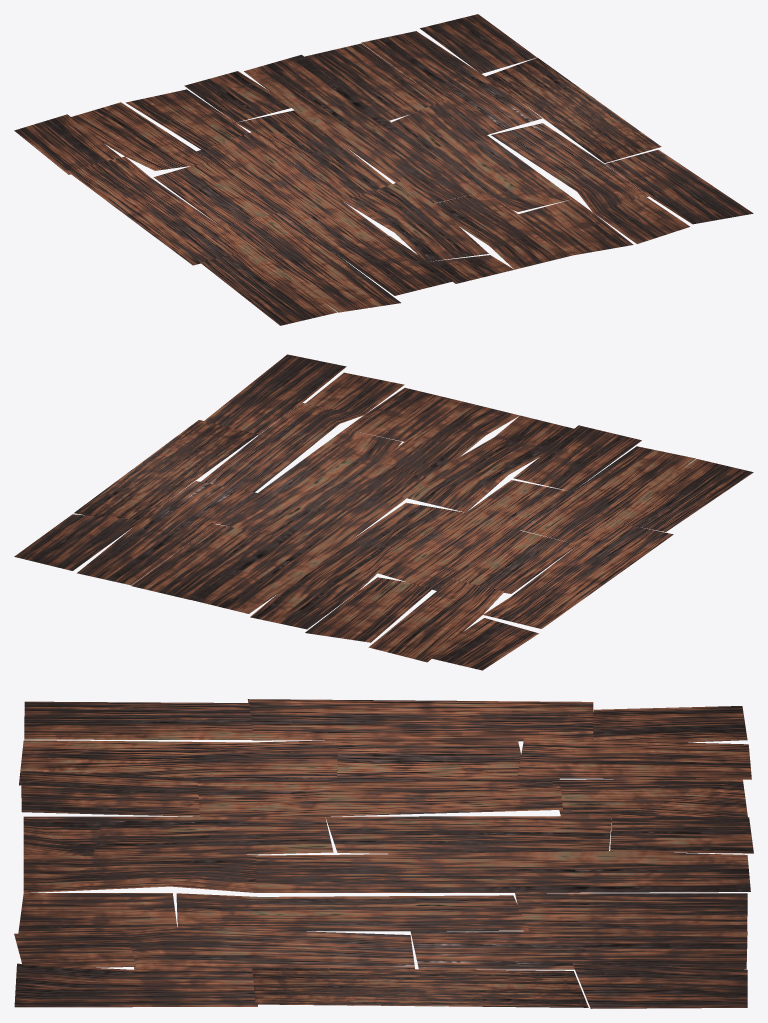
The model's file is 10by10Floor.glb.
3 renders of one model, top to bottom at view 1: azimuth 30°, elevation 25°; view 2: azimuth 150°, elevation 25°; view 3: azimuth 270°, elevation 25°, orthographic. The views are drawn at different scales.
Visible parts, largest first — view 1: Plane; view 2: Plane; view 3: Plane.
Part boxes in pixels (box(x1,y1,x2,y2)): Plane: box(14, 14, 753, 325); Plane: box(14, 354, 753, 670); Plane: box(14, 699, 753, 1008).
Bounding box in the file's own units: 20.18 × 0.4186 × 20.44.
1 material, 1 textured.
